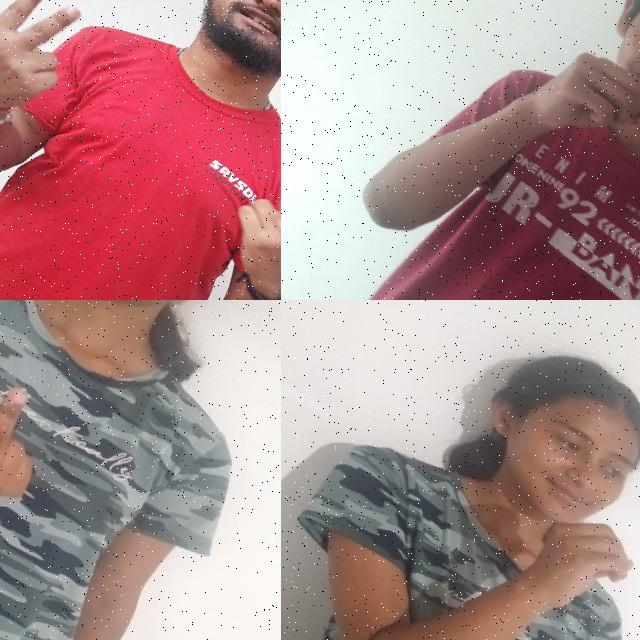Fist Mouth: (409, 311, 640, 640), (481, 0, 640, 260)
Middle Finger: (0, 334, 86, 553)
Reversed Victory: (0, 0, 108, 159), (193, 134, 281, 300)
